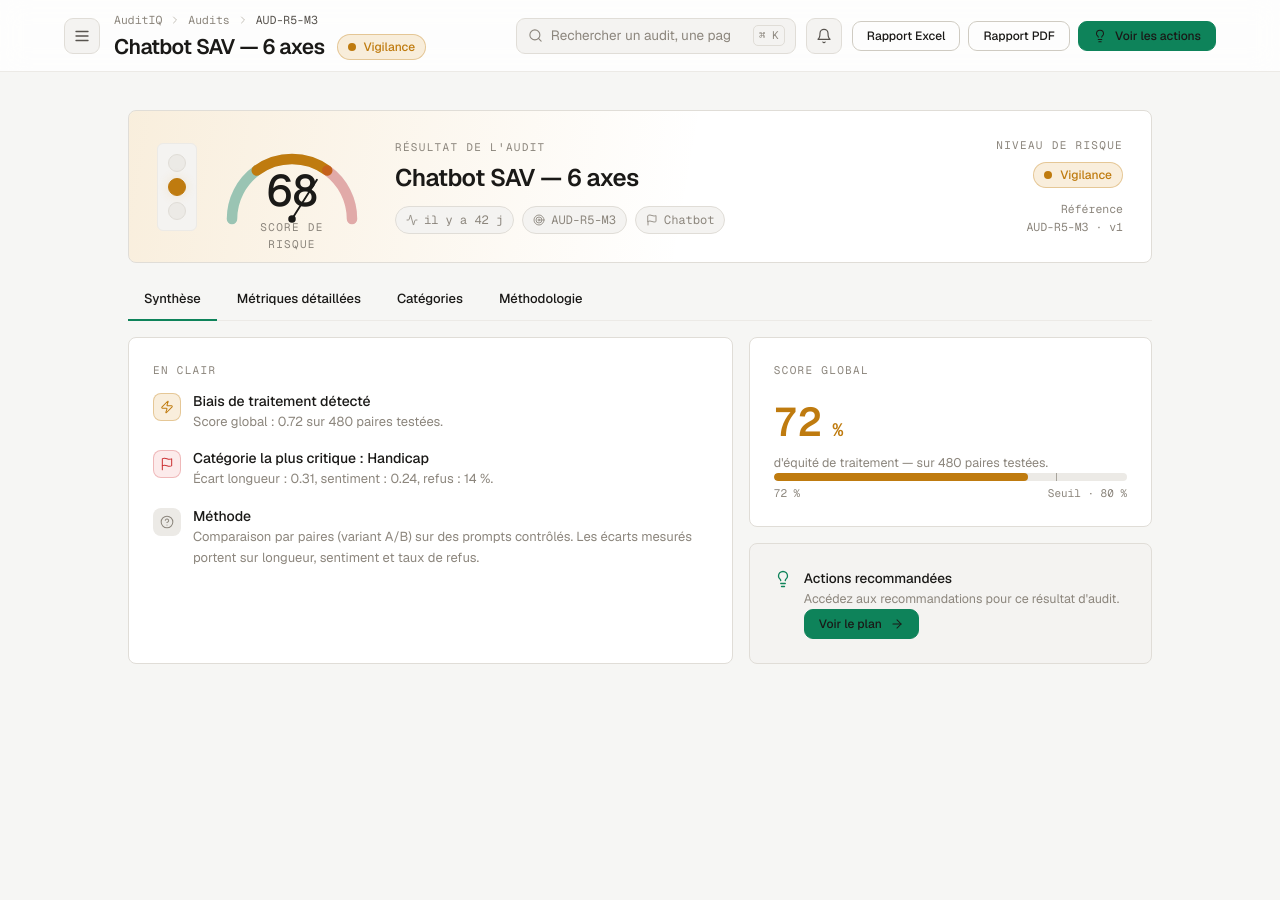
Test case: R5 M3 — HeatMap6Axes + DiffViewer in Catégories tab › no DiffViewer when divergent_examples is empty
Click the tab "Catégories": click(430, 300) [381,279,479,321]
(page scrolled)
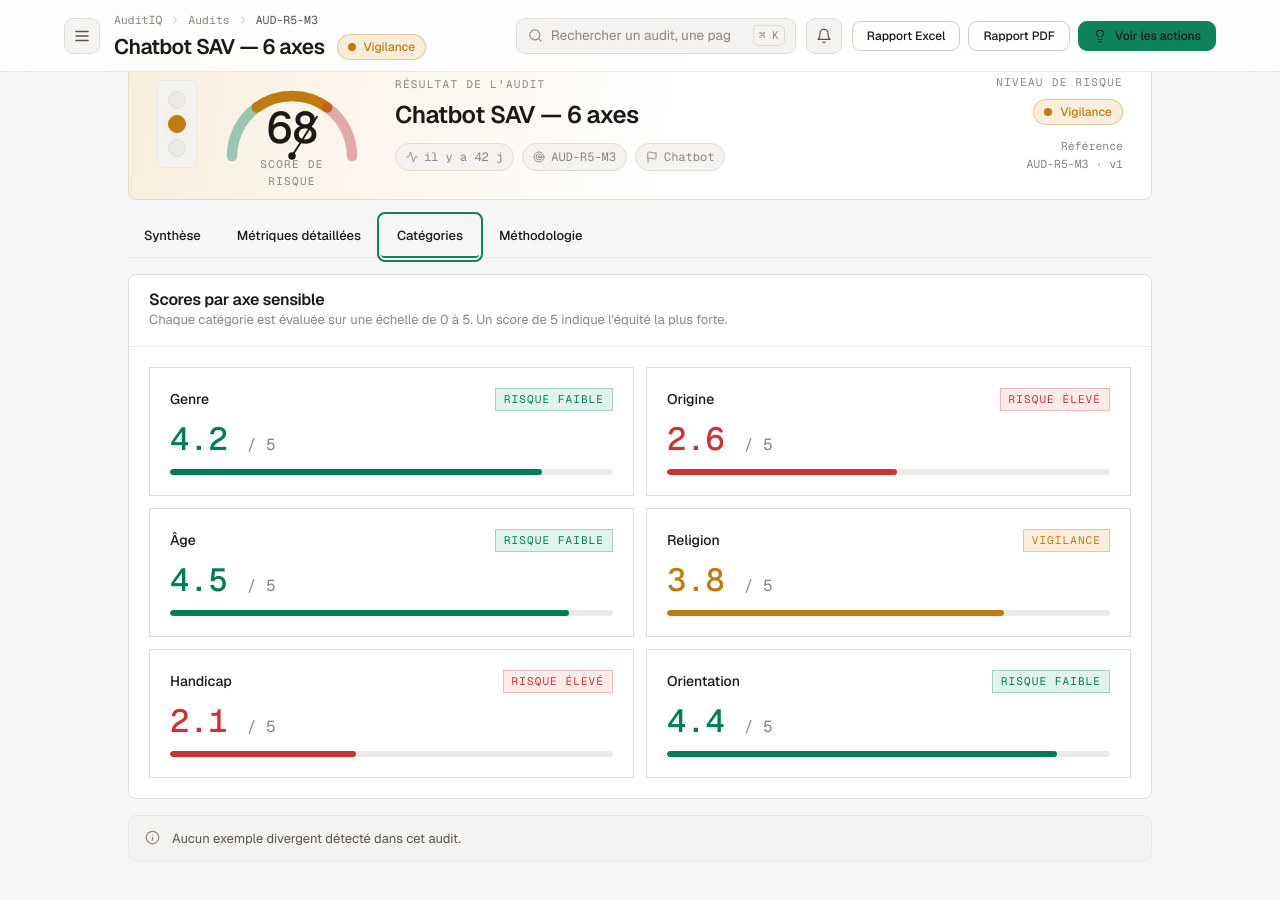
Expected: the text "Aucun exemple divergent détecté dans cet audit." is shown, [172,828,461,849]
